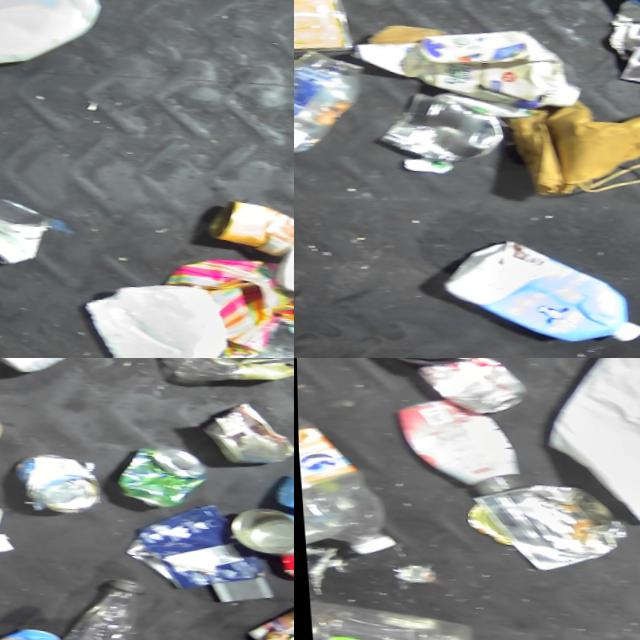can: (111, 431, 209, 506), (208, 186, 294, 252), (209, 389, 294, 453), (424, 358, 521, 413), (0, 188, 50, 265), (240, 493, 294, 546), (245, 587, 294, 640)
non_white_jug: (433, 214, 640, 348)
plastic_bottle: (297, 408, 399, 559), (306, 592, 467, 640), (64, 566, 147, 640), (168, 358, 294, 377)
